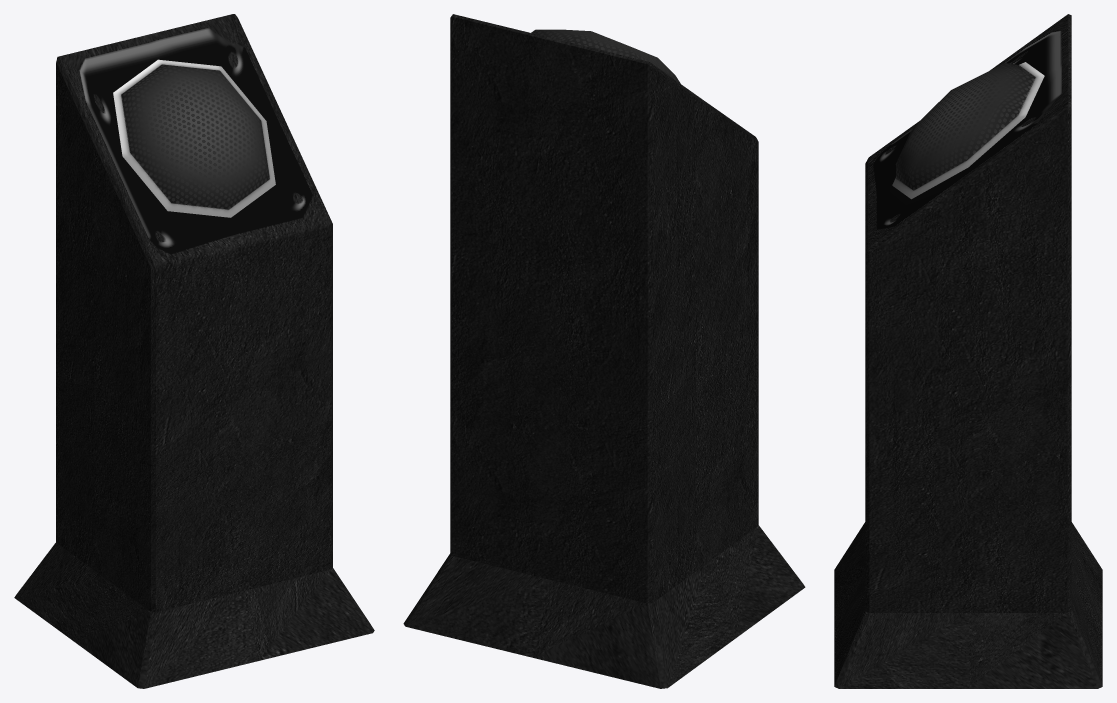
The model's file is Speaker.fbx.
3 views of the same model, side by side, from view 1: azimuth 30°, elevation 25°; view 2: azimuth 150°, elevation 25°; view 3: azimuth 270°, elevation 25° (orthographic). The views are drawn at different scales.
Visible parts, largest first — view 1: polySurface8; view 2: polySurface8; view 3: polySurface8.
Boxes of the visible parts, x1,y1,x2,y2 form: polySurface8: (14, 14, 374, 688); polySurface8: (403, 14, 805, 688); polySurface8: (834, 14, 1102, 688).
Size of the model in its own units: 88.94 by 195 by 83.3.
